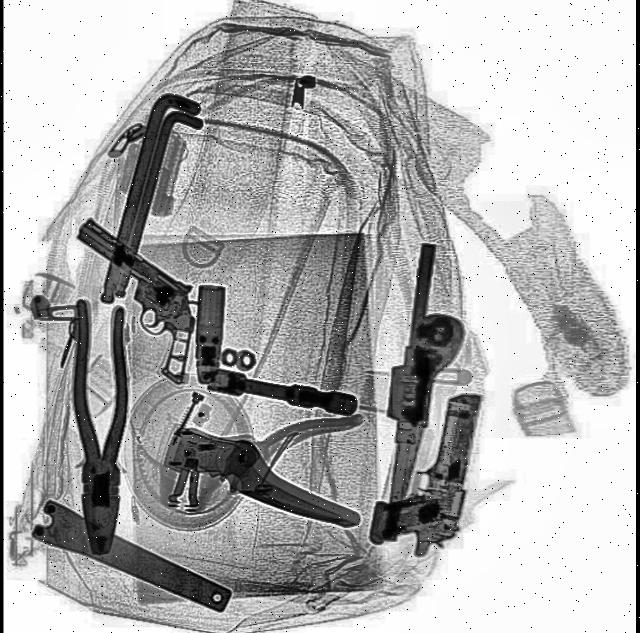Gun: (47, 211, 226, 386), (370, 374, 488, 563)
Pliers: (74, 295, 135, 554)
